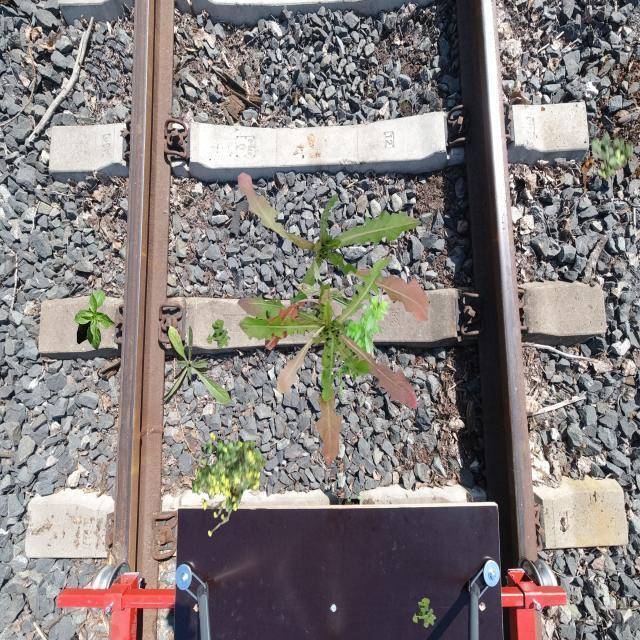Plant: (238, 257, 418, 466), (237, 172, 430, 324), (192, 432, 267, 537), (326, 287, 391, 394), (159, 325, 230, 406), (296, 255, 360, 339), (75, 290, 117, 350), (590, 131, 634, 181), (413, 597, 437, 628), (207, 319, 231, 349)
